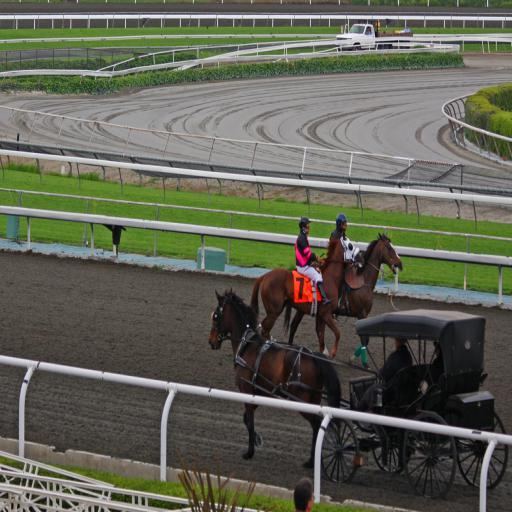Horse: (208, 286, 342, 468), (282, 232, 402, 369), (251, 231, 365, 359)
